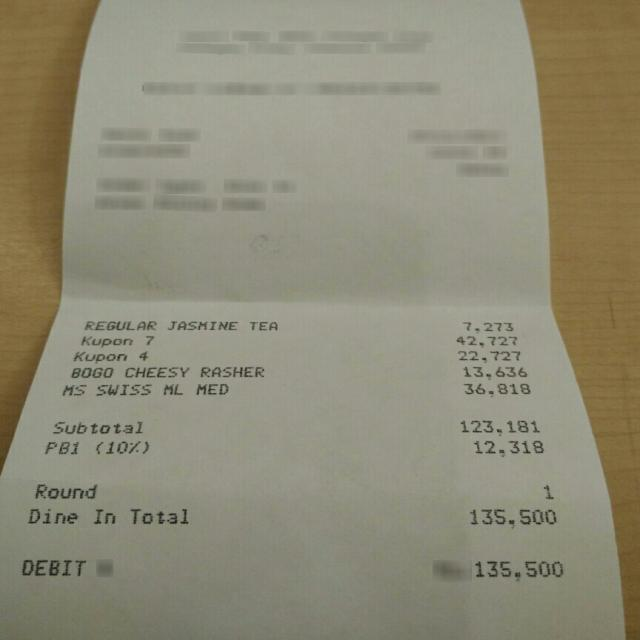kertas: (4, 0, 624, 640)
